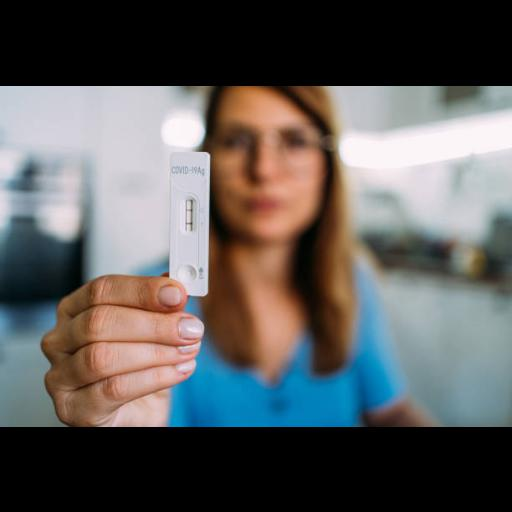Pos: (169, 150, 209, 294)
